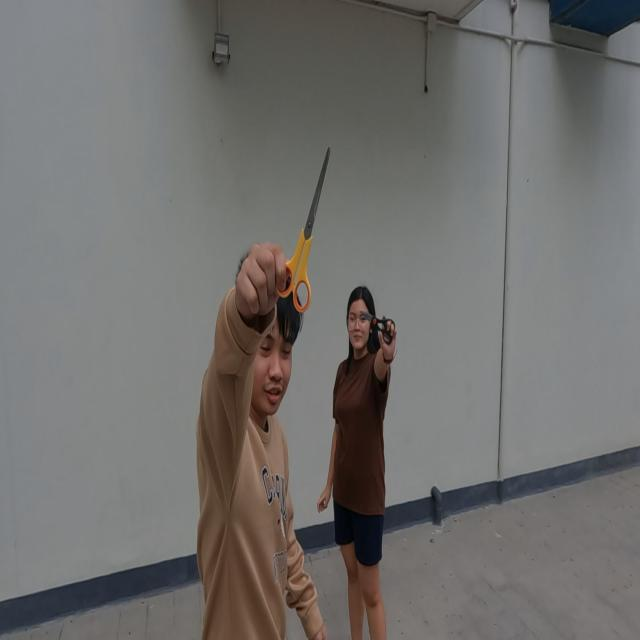scissor: (274, 144, 332, 314), (360, 309, 395, 346)
